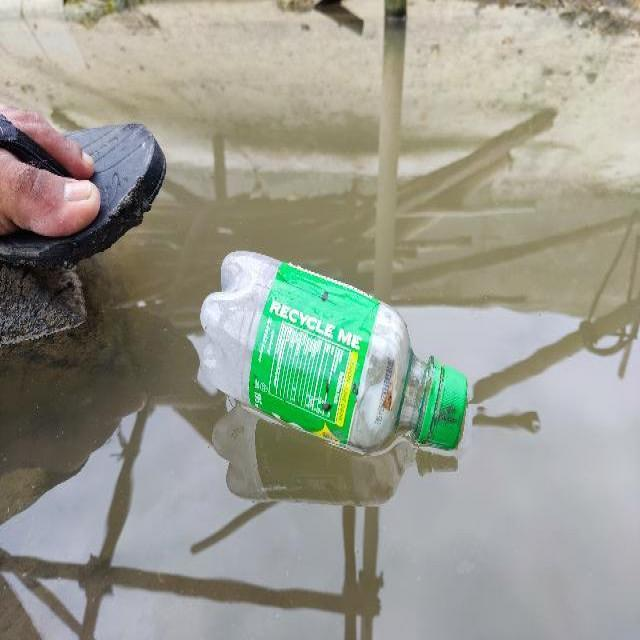Bottle: (192, 240, 486, 464)
